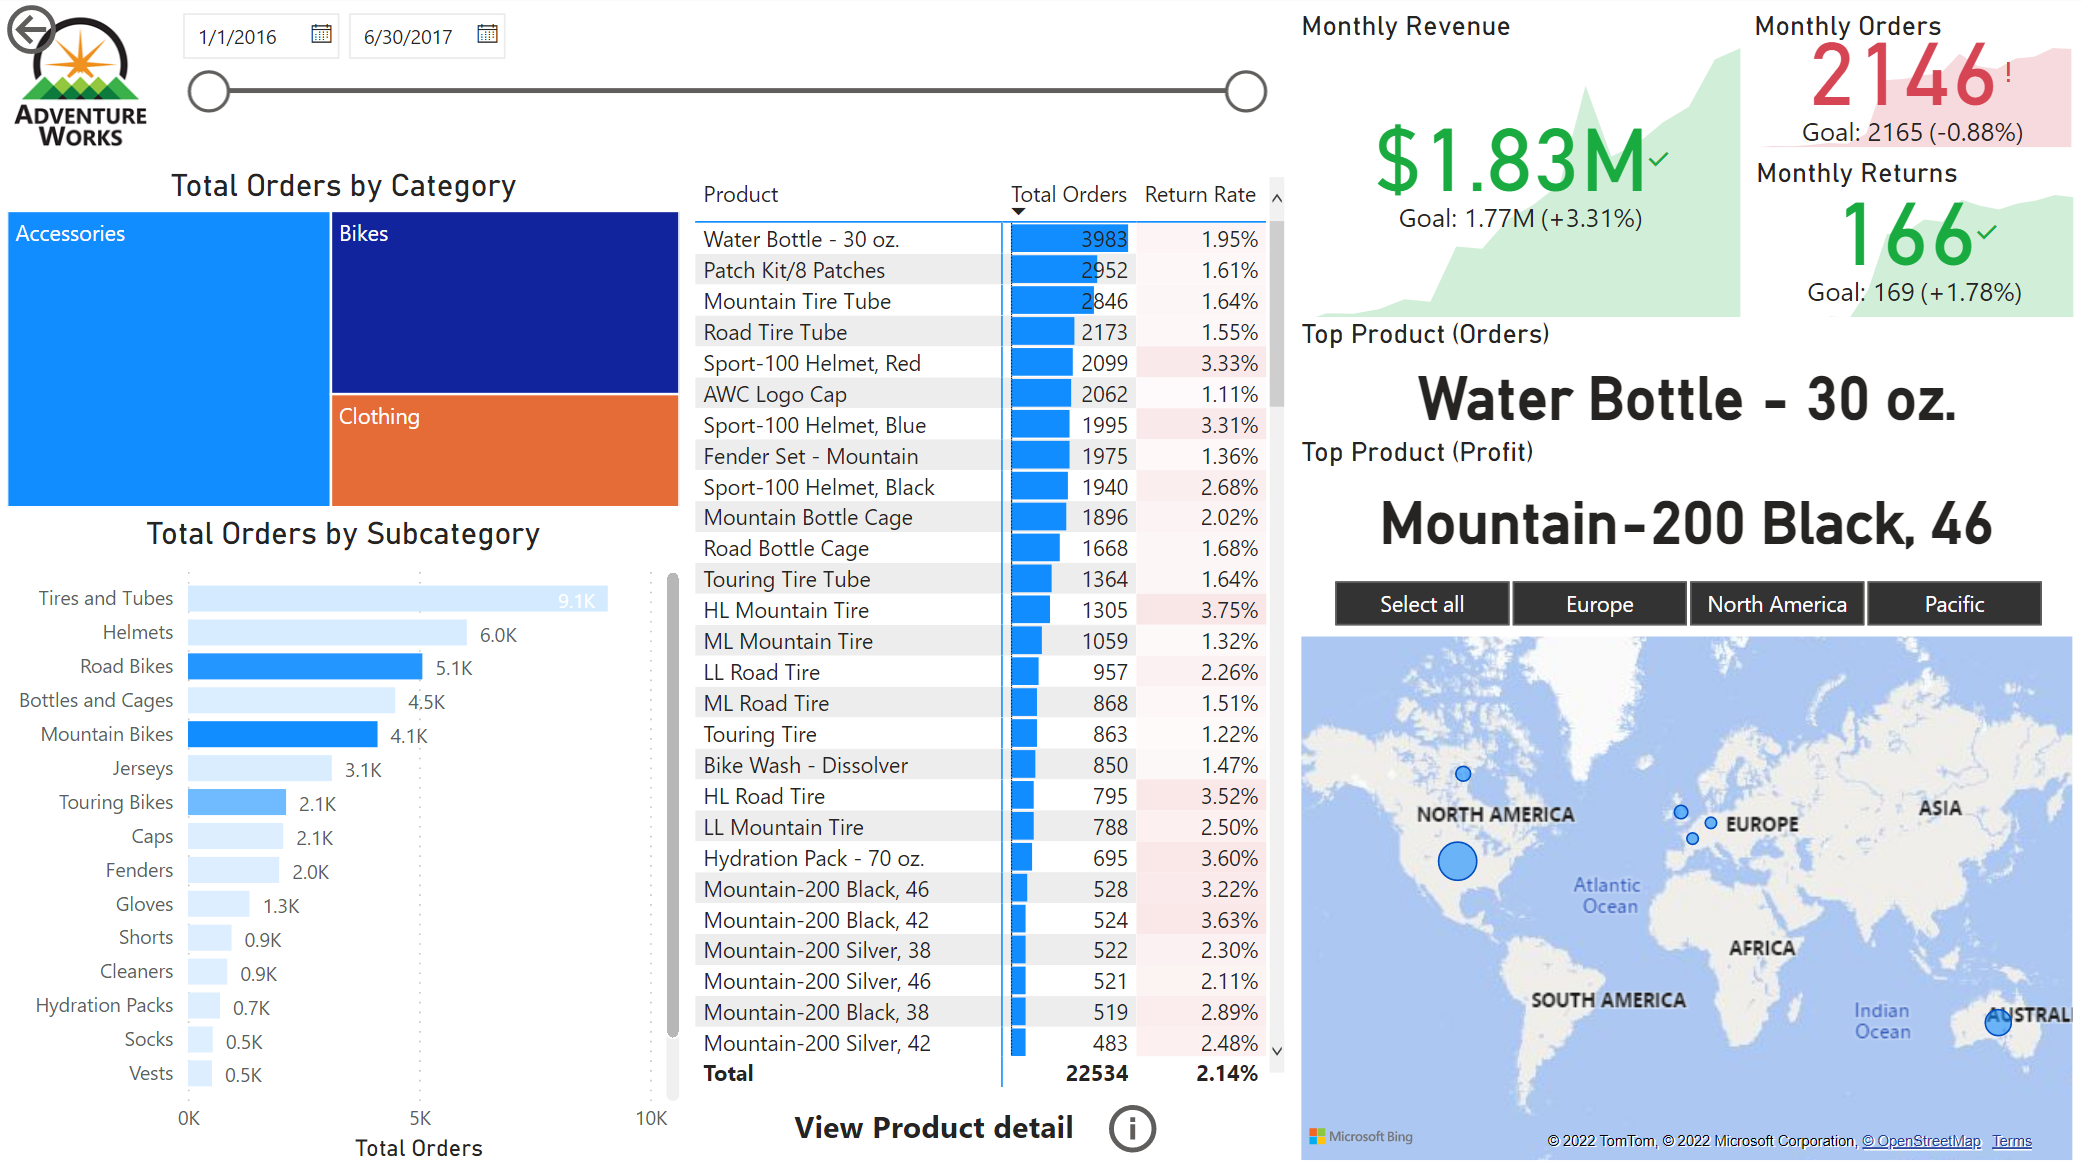

What the dashboard file says about the page in this screenshot:
{"tool":"powerbi","page":{"name":"Exec Summary","canvas":[1280,720],"ordinal":0},"visuals":[{"type":"image","box":[0,0,100.4,104.3],"z":0},{"type":"barChart","title":"Total Orders by Subcategory","fields":{"Y":["AW_Sales.Total Orders"],"Category":["AW_Product_Subcategory_Lookup.SubcategoryName"]},"box":[0,318,422.8,402.1],"z":1000},{"type":"treemap","title":"Total Orders by Category","fields":{"Group":["AW_Product_Category_Lookup.CategoryName","AW_Product_Subcategory_Lookup.SubcategoryName","AW_Product_Lookup.ProductName"],"Values":["AW_Sales.Total Orders"]},"box":[0,104.3,423.4,213.7],"z":2000},{"type":"pivotTable","fields":{"Values":["AW_Sales.Total Orders","AW_Returns.Return Rate"],"Rows":["AW_Product_Category_Lookup.CategoryName","AW_Product_Subcategory_Lookup.SubcategoryName","AW_Product_Lookup.ProductName"]},"box":[422.7,105.7,371.6,569.3],"z":3000},{"type":"slicer","fields":{"Values":["AW_Calendar_Lookup.Date"]},"box":[100.4,0,686.7,104.3],"z":4000},{"type":"kpi","title":"Monthly Revenue","fields":{"Indicator":["AW_Sales.Total Revenue"],"TrendLine":["AW_Calendar_Lookup.Start of Month"],"Goal":["AW_Sales.Prev Month Revenue"]},"box":[794.8,7.2,279.8,196.6],"z":5000},{"type":"kpi","title":"Monthly Orders","fields":{"TrendLine":["AW_Calendar_Lookup.Start of Month"],"Indicator":["AW_Sales.Total Orders"],"Goal":["AW_Sales.Prev Month Orders"]},"box":[1073.4,7.2,205,90.5],"z":6000},{"type":"kpi","title":"Monthly Returns","fields":{"TrendLine":["AW_Calendar_Lookup.Start of Month"],"Goal":["AW_Returns.Prev Month Returns"],"Indicator":["AW_Returns.Total Returns"]},"box":[1074.6,97.7,205,106.1],"z":7000},{"type":"card","title":"Top Product (Orders)","fields":{"Values":["Min(AW_Product_Lookup.ProductName)"]},"box":[795,196.8,484,73.5],"z":8000},{"type":"actionButton","box":[0,0,100,40],"z":9000},{"type":"card","title":"Top Product (Profit)","fields":{"Values":["Min(AW_Product_Lookup.ProductName)"]},"box":[795,269.3,484,82.5],"z":10000},{"type":"map","fields":{"Category":["AW_Territories_Lookup.Country"],"Size":["AW_Sales.Total Orders"]},"box":[795,387.6,484,331.9],"z":11000},{"type":"slicer","fields":{"Values":["AW_Territories_Lookup.Continent"]},"box":[795,351.8,484,35.8],"z":12000},{"type":"textbox","box":[483.3,675.5,193.6,43.2],"z":13000},{"type":"actionButton","box":[676.9,675.5,87.7,39],"z":14000}]}

Visuals, with their boxes in screenshot pixels (x1, y1, x2, y2), scaled from the page's 1280x720 canvas onto the 2082x1165 screenshot:
image: [0,0,163,169]
"Total Orders by Subcategory" barChart: [0,515,688,1164]
"Total Orders by Category" treemap: [0,169,689,515]
pivotTable - AW_Sales.Total Orders x AW_Returns.Return Rate: [688,171,1292,1092]
slicer - AW_Calendar_Lookup.Date: [163,0,1280,169]
"Monthly Revenue" kpi: [1293,12,1748,330]
"Monthly Orders" kpi: [1746,12,2079,158]
"Monthly Returns" kpi: [1748,158,2081,330]
"Top Product (Orders)" card: [1293,318,2080,437]
actionButton: [0,0,163,65]
"Top Product (Profit)" card: [1293,436,2080,569]
map - AW_Territories_Lookup.Country x AW_Sales.Total Orders: [1293,627,2080,1164]
slicer - AW_Territories_Lookup.Continent: [1293,569,2080,627]
textbox: [786,1093,1101,1163]
actionButton: [1101,1093,1244,1156]
